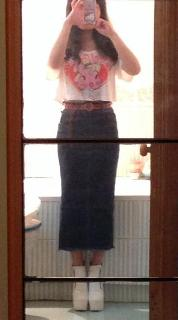short sleeve top: (46, 38, 134, 105)
skirt: (57, 101, 119, 252)
